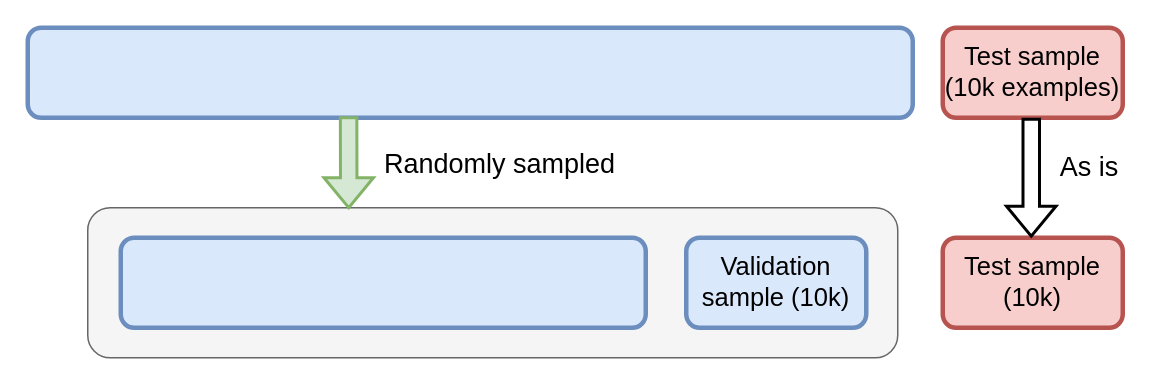
This 1161x384 diagram has some shape labels left out. The shapes that lost their labels are listed below. From the top down, each one's centre as x and y in pixels, then its label:
At [469,72]: "Original train sample (50k examples)".
At [382,282]: "Train sample (30k / 20k / 10k)".
